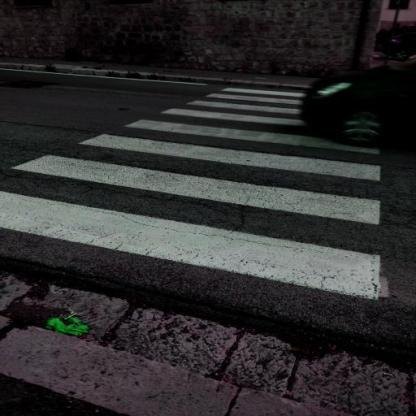crosswalk: (0, 130, 398, 230)
